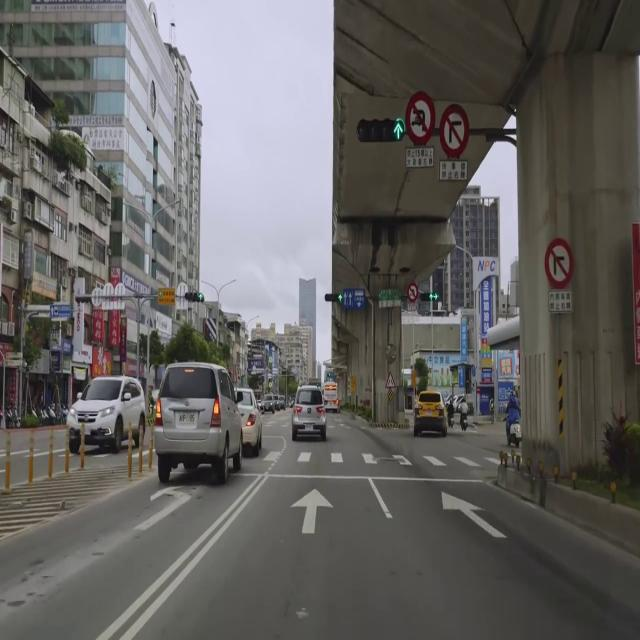green light: (358, 117, 406, 143), (184, 289, 204, 304), (323, 292, 344, 304), (419, 291, 438, 301)
